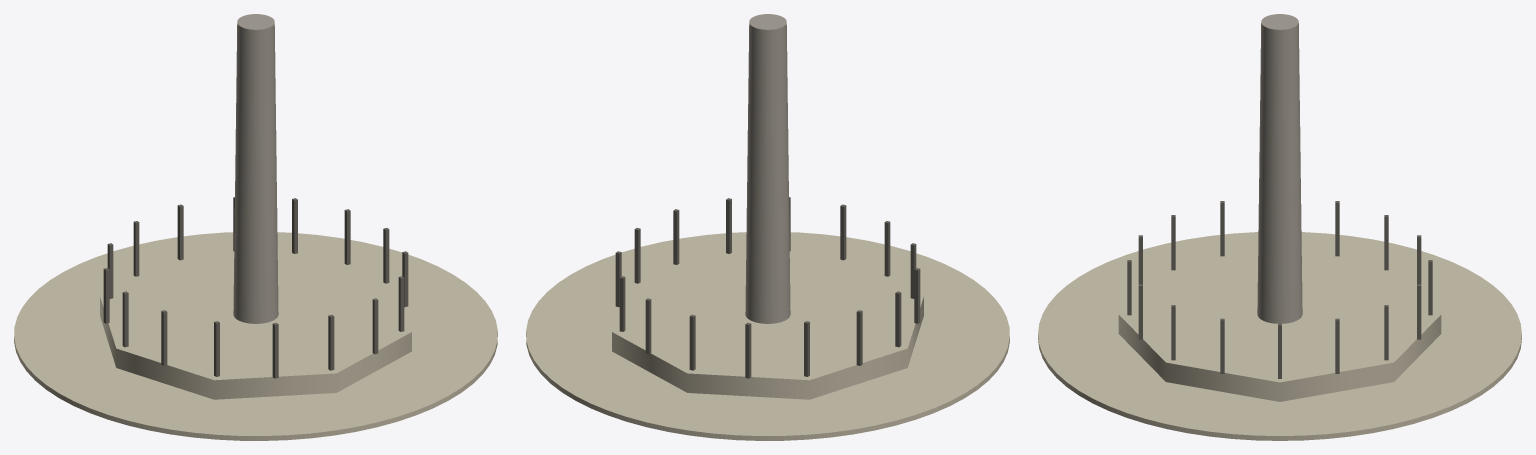
File: ashokan-pillar.gltf
3 renders of one model, left to right at view 1: azimuth 30°, elevation 25°; view 2: azimuth 150°, elevation 25°; view 3: azimuth 270°, elevation 25°, orthographic.
Visible parts, largest first — view 1: ground, object 1, pillar; view 2: ground, object 1, pillar; view 3: ground, object 1, pillar.
Boxes of the visible parts, bbox=[...] form: ground: bbox=[14, 232, 497, 440]; object 1: bbox=[100, 248, 411, 399]; pillar: bbox=[233, 14, 278, 323]; ground: bbox=[526, 232, 1009, 440]; object 1: bbox=[612, 248, 923, 399]; pillar: bbox=[745, 14, 790, 323]; ground: bbox=[1038, 232, 1521, 440]; object 1: bbox=[1118, 250, 1441, 401]; pillar: bbox=[1257, 14, 1302, 323].
Bounding box in the file's own units: 9 × 6.5 × 9.
